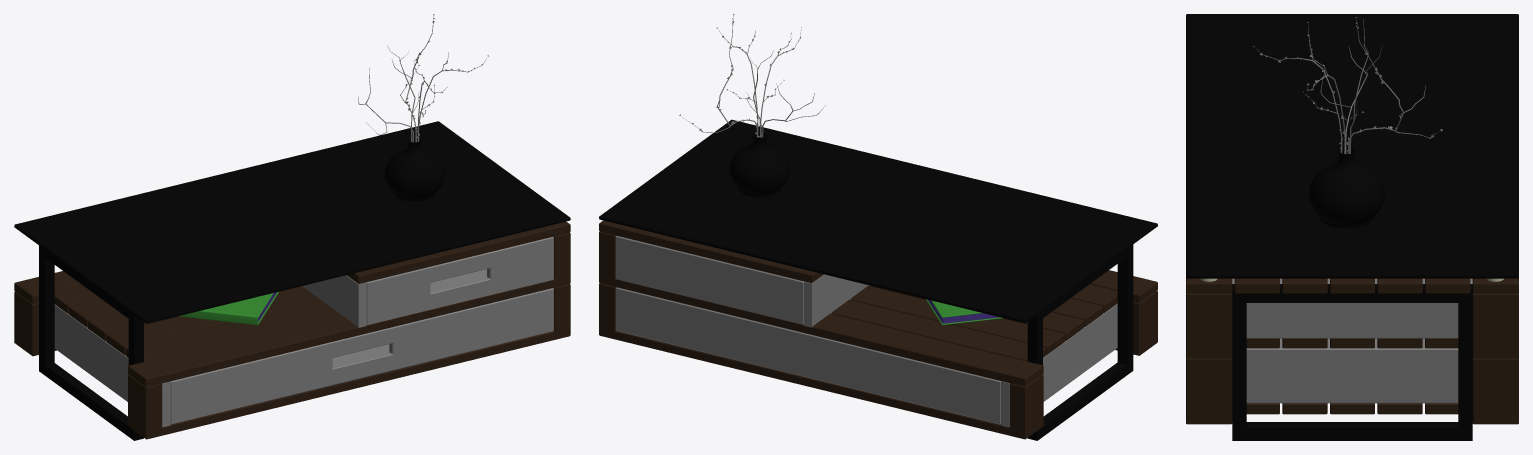
The model's file is uploads_files_3271597_coffee+table+03.fbx.
3 views of the same model, side by side, from view 1: azimuth 30°, elevation 25°; view 2: azimuth 150°, elevation 25°; view 3: azimuth 270°, elevation 25° (orthographic). The views are drawn at different scales.
Parts seen in each view (by area): view 1: Box2131637479, Box2131637478, Box2131637470, Box2131637474, Box2131637476, Box2131637472, VRay-017, Box2131637477, Box2131637469, Box2131637471, SH设计037qq 973390768; view 2: Box2131637479, Box2131637470, Box2131637478, Box2131637474, Box2131637476, Box2131637472, VRay-017, Box2131637477, Box2131637469, Box2131637471, SH设计037qq 973390768; view 3: Box2131637479, Box2131637478, Box2131637472, Box2131637476, Box2131637470, Box2131637474, VRay-017, Box2131637469.
Part boxes in pixels (x1,y1,x2,y2): Box2131637479: [14, 121, 570, 323]; Box2131637478: [170, 288, 553, 424]; Box2131637470: [14, 232, 570, 386]; Box2131637474: [366, 237, 553, 325]; Box2131637476: [14, 284, 570, 439]; Box2131637472: [39, 245, 143, 440]; VRay-017: [358, 14, 488, 201]; Box2131637477: [54, 304, 170, 427]; Box2131637469: [347, 221, 570, 283]; Box2131637471: [301, 275, 366, 327]; SH设计037qq 973390768: [178, 291, 278, 325]; Box2131637479: [599, 119, 1157, 323]; Box2131637470: [599, 231, 1157, 386]; Box2131637478: [615, 287, 1000, 424]; Box2131637474: [615, 235, 803, 324]; Box2131637476: [599, 283, 1157, 439]; Box2131637472: [1027, 244, 1133, 440]; VRay-017: [679, 14, 825, 197]; Box2131637477: [1001, 303, 1117, 427]; Box2131637469: [599, 220, 823, 283]; Box2131637471: [804, 274, 869, 327]; SH设计037qq 973390768: [925, 299, 1003, 325]; Box2131637479: [1186, 14, 1518, 278]; Box2131637478: [1246, 338, 1458, 403]; Box2131637472: [1232, 284, 1472, 440]; Box2131637476: [1186, 358, 1518, 424]; Box2131637470: [1186, 293, 1518, 358]; Box2131637474: [1232, 278, 1472, 338]; VRay-017: [1253, 17, 1442, 228]; Box2131637469: [1186, 278, 1518, 293].
Size of what is drawn, in the model's own units: 130 by 89.43 by 70.
